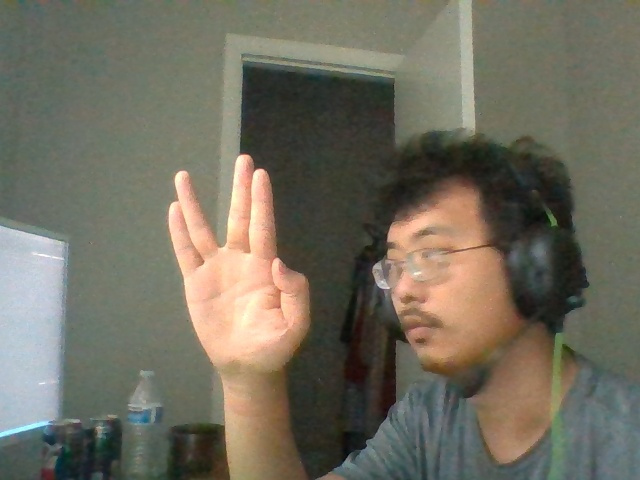LiveLong: (168, 153, 312, 375)
